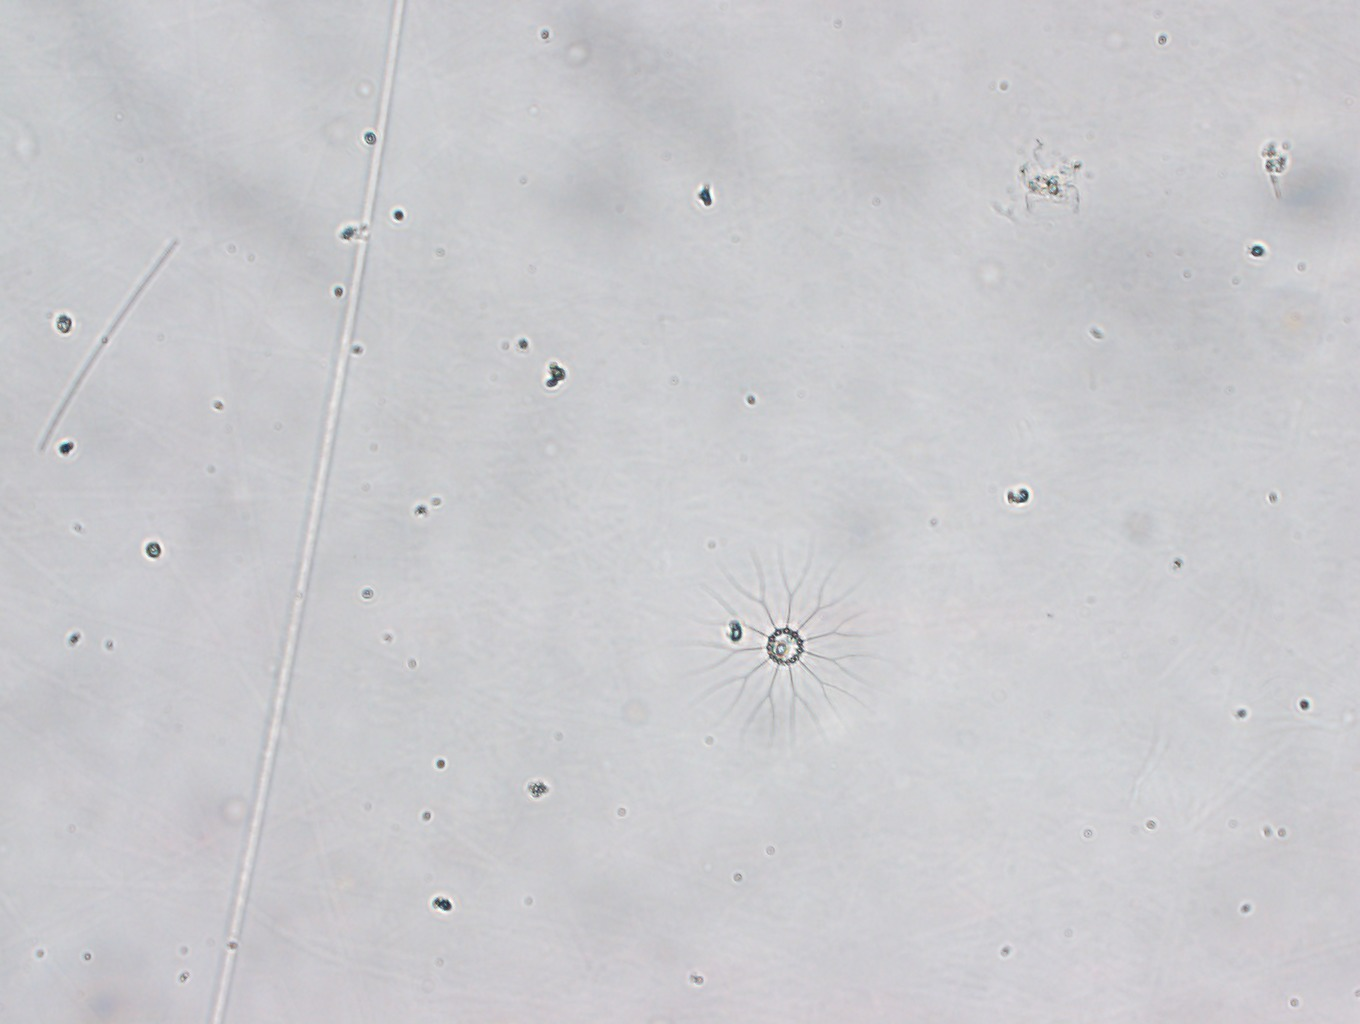bacteriastrum: (675, 541, 893, 752)
